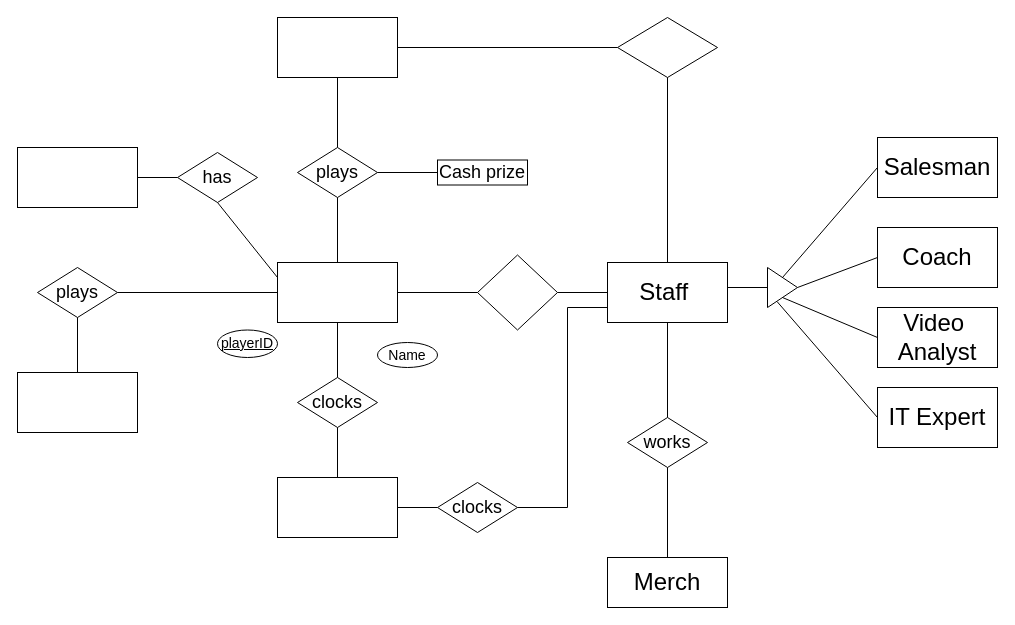
Image size: 1015x625. Some labels were removed from this diagram. Here are the shapes that lost their labels. From the top down, the centre of each, then its label:
[337,47]: Major
[667,47]: travel to
[77,177]: Statistics
[337,292]: Player
[517,292]: works with
[77,402]: Role
[337,507]: Facility
